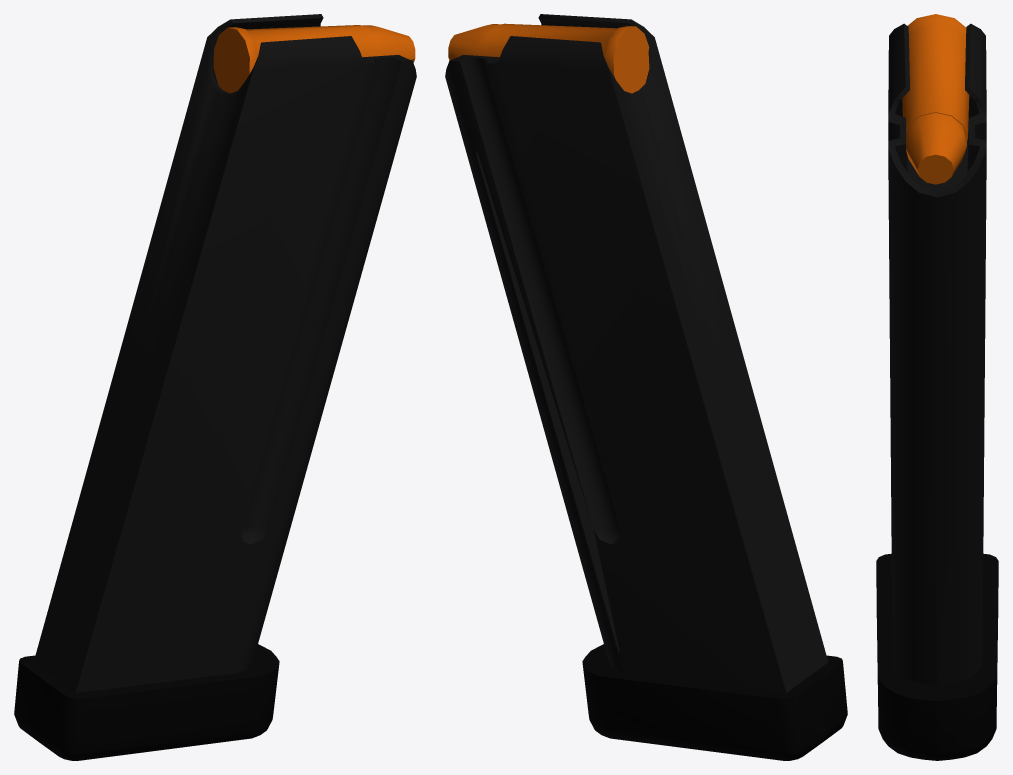
Rendered from Pistol_Mag.FBX.
3 views of the same model, side by side, from view 1: azimuth 30°, elevation 25°; view 2: azimuth 150°, elevation 25°; view 3: azimuth 270°, elevation 25° (orthographic). The views are drawn at different scales.
Parts seen in each view (by area): view 1: Pistol_Mag; view 2: Pistol_Mag; view 3: Pistol_Mag.
Part boxes in pixels (box(x1,y1,x2,y2)): Pistol_Mag: box(14, 14, 416, 760); Pistol_Mag: box(445, 14, 847, 760); Pistol_Mag: box(876, 14, 998, 760).
Size of what is drawn, in the model's own units: 9.44 by 2.54 by 16.86.
